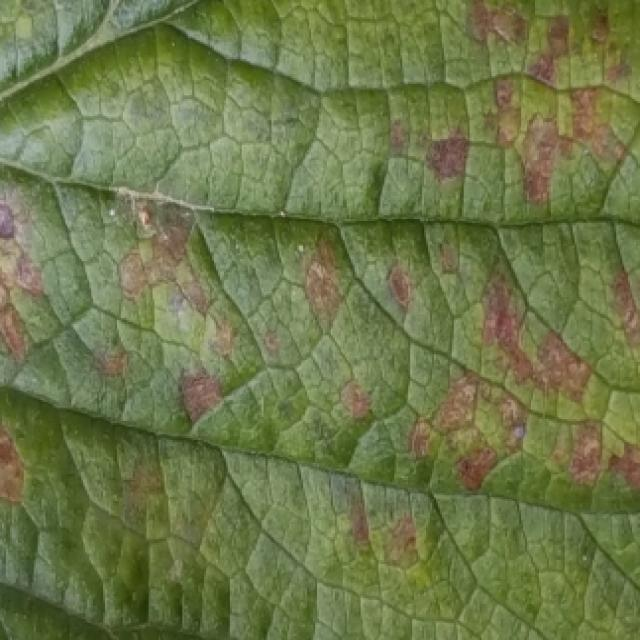Angular Leafspot: (0, 0, 640, 640)
